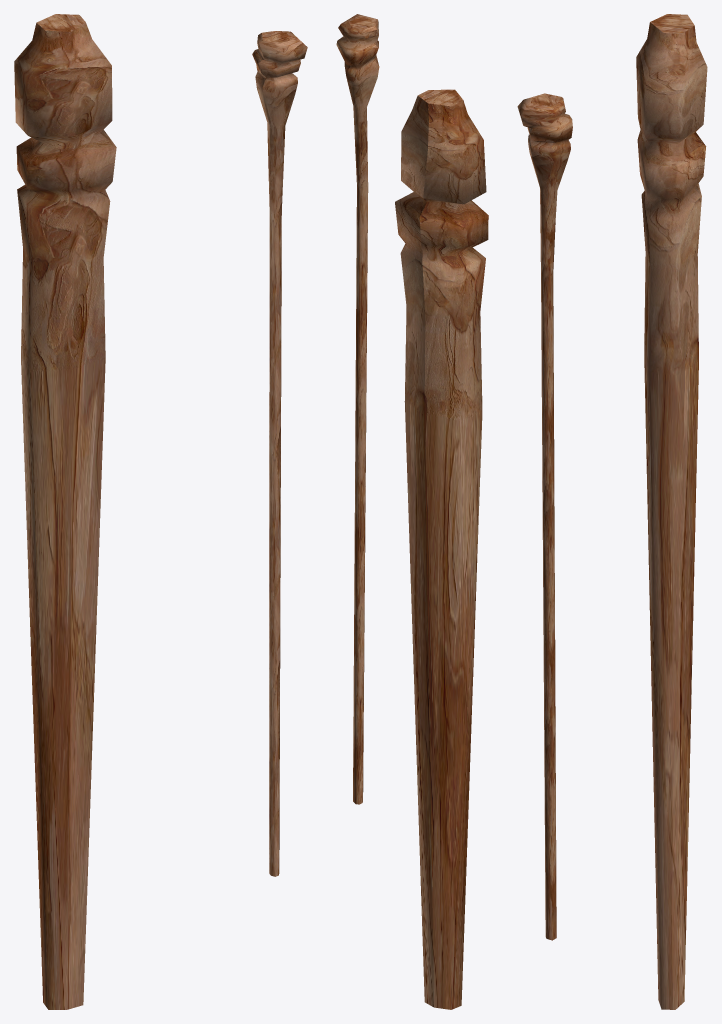
Rendered from Bullet Station 10.fbx.
The picture shows the model from 3 angles, left to right: view 1: azimuth 30°, elevation 25°; view 2: azimuth 150°, elevation 25°; view 3: azimuth 270°, elevation 25°; orthographic projection. The views are drawn at different scales.
Parts seen in each view (by area): view 1: STG08_ON_12; view 2: STG08_ON_12; view 3: STG08_ON_12.
Boxes of the visible parts, <box> form: STG08_ON_12: <box>14,14,307,1009</box>; STG08_ON_12: <box>336,14,488,1009</box>; STG08_ON_12: <box>517,14,707,1009</box>.
Size of the model in its own units: 345513 by 1510777 by 265814.
